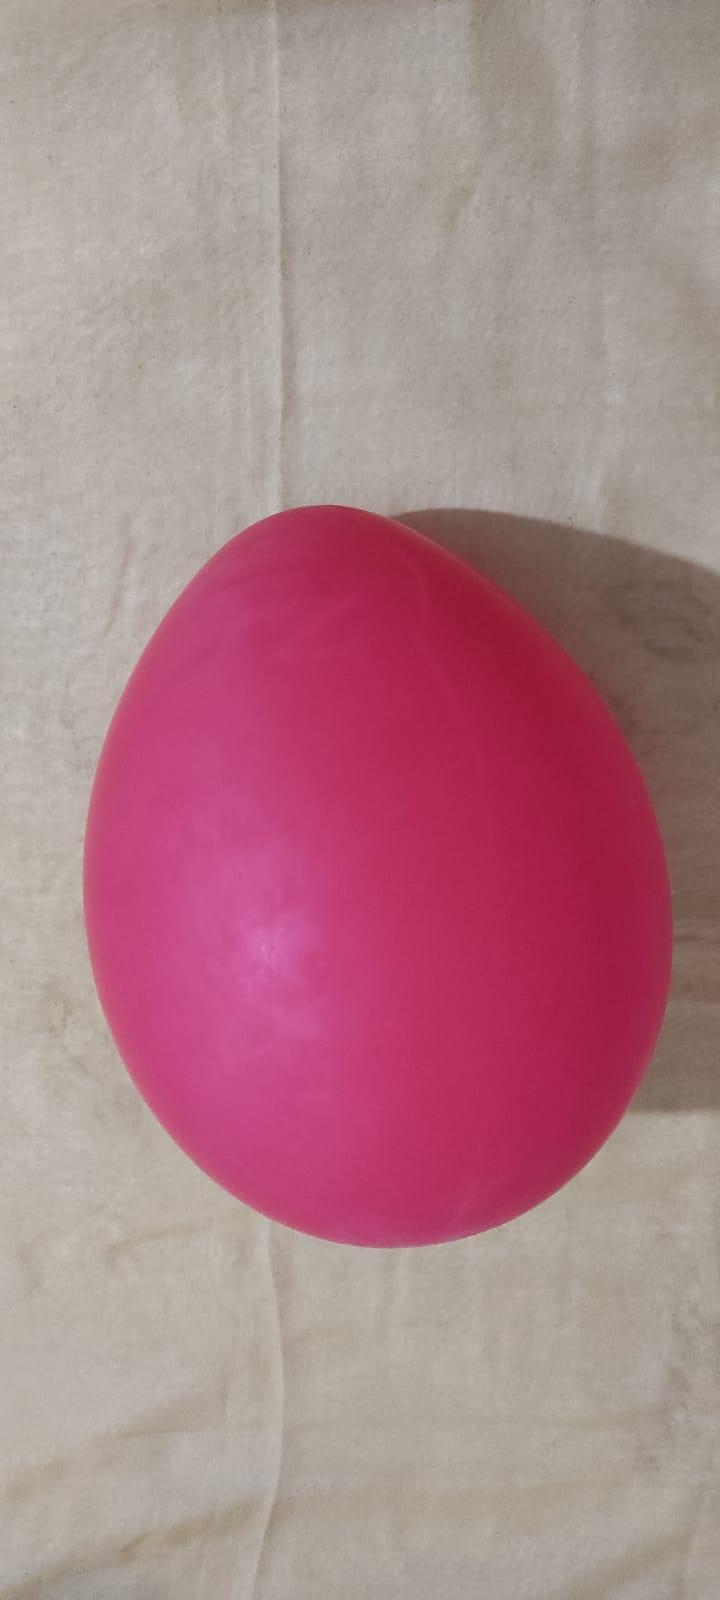red: (78, 494, 676, 1248)
